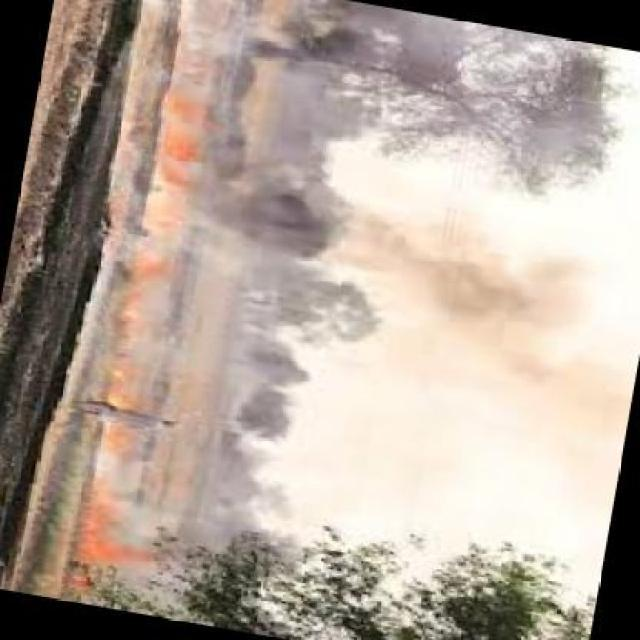Fire: (66, 428, 159, 590), (124, 93, 204, 270), (91, 283, 160, 424)
Smoke: (359, 150, 632, 396), (232, 20, 481, 154), (206, 180, 324, 436), (172, 445, 274, 548)
